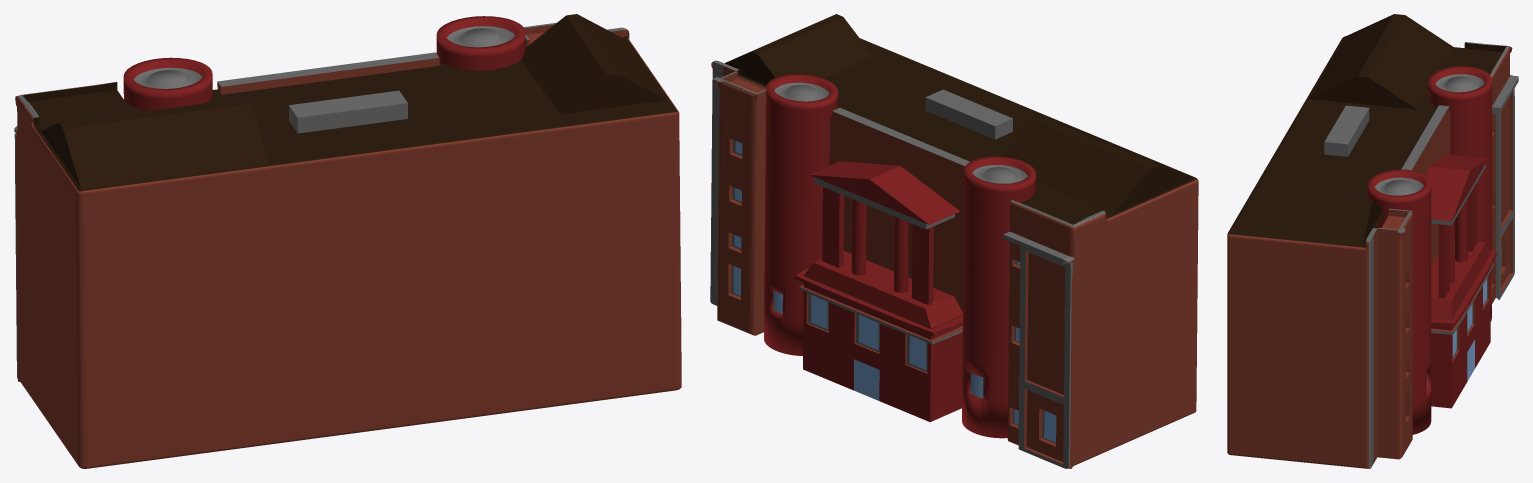
File: guild.glb
The picture shows the model from 3 angles, left to right: view 1: azimuth 30°, elevation 25°; view 2: azimuth 150°, elevation 25°; view 3: azimuth 270°, elevation 25°; orthographic projection. The views are drawn at different scales.
Parts seen in each view (by area): view 1: guild; view 2: guild; view 3: guild.
Boxes of the visible parts, x1,y1,x2,y2 form: guild: (14,14,681,468); guild: (710,14,1198,468); guild: (1227,14,1518,468).
Bounding box in the file's own units: 5.66 × 3.03 × 3.19.
